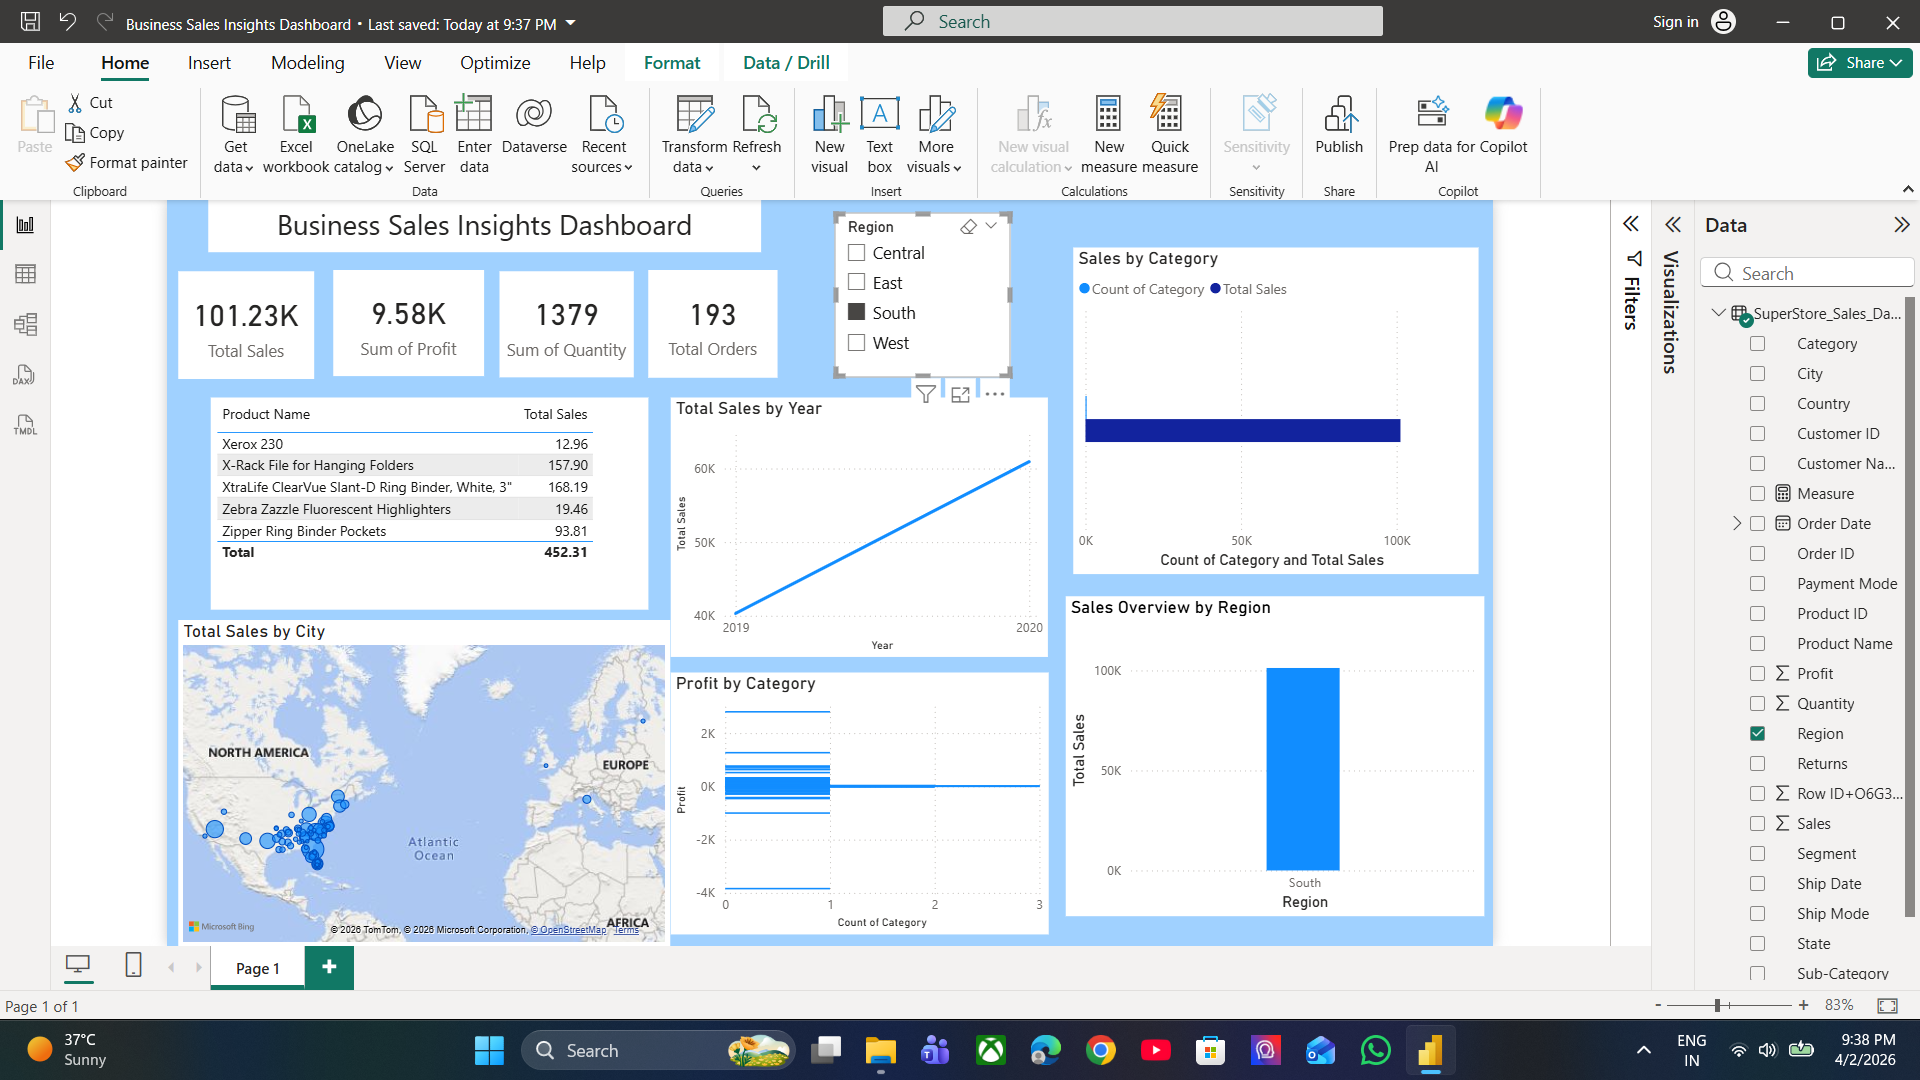

Layout of this report page (visuals, bound fields, positions):
{"tool":"powerbi","page":{"name":"Page 1","canvas":[1280,720],"ordinal":0},"visuals":[{"type":"card","fields":{"Values":["Sum(SuperStore_Sales_Dataset.Profit)"]},"box":[160.5,67.9,145.7,102.5],"z":0},{"type":"card","fields":{"Values":["Sum(SuperStore_Sales_Dataset.Quantity)"]},"box":[321,69.1,129.6,102.5],"z":1000},{"type":"card","fields":{"Values":["SuperStore_Sales_Dataset.Total Orders"]},"box":[464.2,67.9,124.7,103.7],"z":2000},{"type":"card","fields":{"Values":["SuperStore_Sales_Dataset.Total Sales"]},"box":[11.1,69.1,130.9,103.7],"z":3000},{"type":"clusteredBarChart","title":"Sales by Category","fields":{"Y":["CountNonNull(SuperStore_Sales_Dataset.Category)","SuperStore_Sales_Dataset.Total Sales"]},"box":[874.1,45.7,391.4,314.8],"z":4000},{"type":"columnChart","title":"Sales Overview by Region","fields":{"Y":["SuperStore_Sales_Dataset.Total Sales"],"Category":["SuperStore_Sales_Dataset.Region"]},"box":[867.9,382.7,403.7,308.6],"z":5000},{"type":"slicer","fields":{"Values":["SuperStore_Sales_Dataset.Region"]},"box":[644.4,12.3,170.4,159.3],"z":6000},{"type":"barChart","title":"Profit by Category","fields":{"Category":["SuperStore_Sales_Dataset.Profit"],"Y":["CountNonNull(SuperStore_Sales_Dataset.Category)"]},"box":[494.6,454.8,364.3,252.1],"z":7000},{"type":"tableEx","fields":{"Values":["SuperStore_Sales_Dataset.Product Name","SuperStore_Sales_Dataset.Total Sales"]},"box":[42,190.1,422.2,204.9],"z":8000},{"type":"lineChart","fields":{"Category":["SuperStore_Sales_Dataset.Order Date.Variation.Date Hierarchy.Year","SuperStore_Sales_Dataset.Order Date.Variation.Date Hierarchy.Quarter","SuperStore_Sales_Dataset.Order Date.Variation.Date Hierarchy.Month","SuperStore_Sales_Dataset.Order Date.Variation.Date Hierarchy.Day"],"Y":["SuperStore_Sales_Dataset.Total Sales"]},"box":[494.6,190.6,364.3,249.7],"z":9000},{"type":"textbox","box":[39.5,0,533.3,50.6],"z":10000},{"type":"map","fields":{"Size":["SuperStore_Sales_Dataset.Total Sales"],"Category":["SuperStore_Sales_Dataset.City","SuperStore_Sales_Dataset.State"]},"box":[11,404.8,474.8,315.6],"z":11000}]}

Visuals, with their boxes on the page's 1280x720 design canvas (x1, y1, x2, y2). These are canvas units, not pixel positions in the 1920x1080 screenshot, which may show the page scaled, cropped or inside an application window:
card - Sum(SuperStore_Sales_Dataset.Profit): 160 68 306 170
card - Sum(SuperStore_Sales_Dataset.Quantity): 321 69 451 172
card - SuperStore_Sales_Dataset.Total Orders: 464 68 589 172
card - SuperStore_Sales_Dataset.Total Sales: 11 69 142 173
"Sales by Category" clusteredBarChart: 874 46 1266 360
"Sales Overview by Region" columnChart: 868 383 1272 691
slicer - SuperStore_Sales_Dataset.Region: 644 12 815 172
"Profit by Category" barChart: 495 455 859 707
tableEx - SuperStore_Sales_Dataset.Product Name x SuperStore_Sales_Dataset.Total Sales: 42 190 464 395
lineChart - SuperStore_Sales_Dataset.Order Date.Variation.Date Hierarchy.Year x SuperStore_Sales_Dataset.Order Date.Variation.Date Hierarchy.Quarter: 495 191 859 440
textbox: 40 0 573 51
map - SuperStore_Sales_Dataset.Total Sales x SuperStore_Sales_Dataset.City: 11 405 486 720
